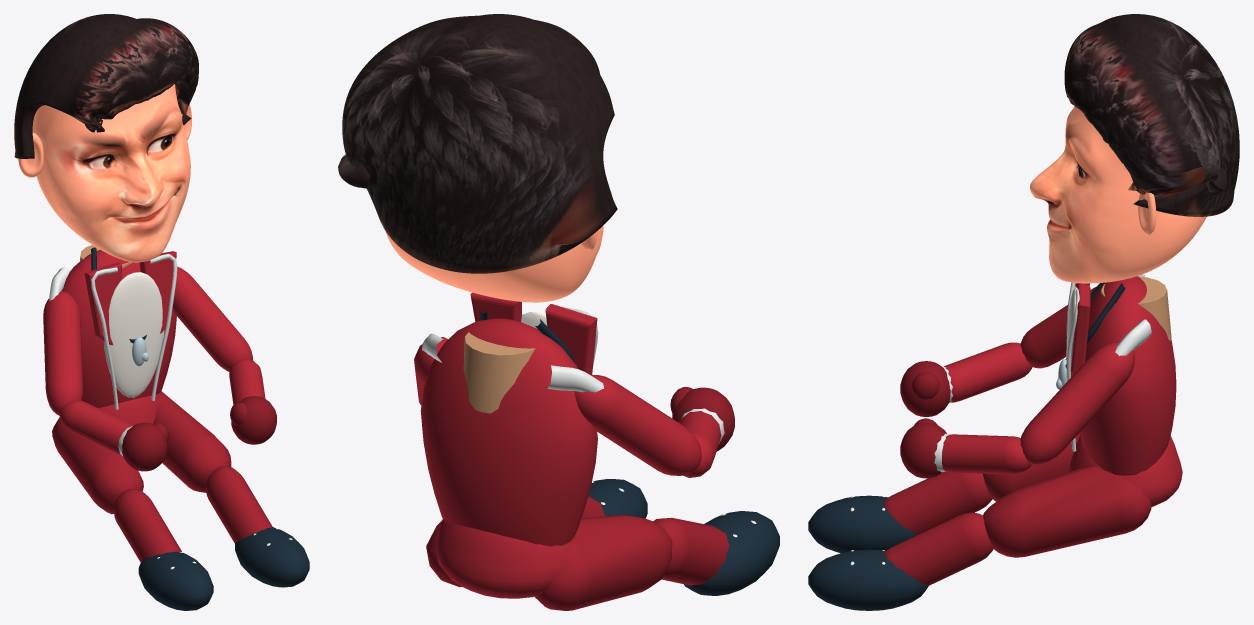
Rendered from discipline.glb.
3 views of the same model, side by side, from view 1: azimuth 30°, elevation 25°; view 2: azimuth 150°, elevation 25°; view 3: azimuth 270°, elevation 25° (orthographic). The views are drawn at different scales.
Visible parts, largest first — view 1: Driver_discipline, PortraitVolumeFace, PortraitHair_discipline, UpperArm_L, UpperArm_R, Forearm_L, Hand_L, Hand_R, Forearm_R, PortraitEar_-1; view 2: Driver_discipline, PortraitHair_discipline, UpperArm_L, PortraitVolumeFace, Hand_L, Forearm_L, UpperArm_R; view 3: Driver_discipline, PortraitHair_discipline, PortraitVolumeFace, UpperArm_R, Forearm_R, Forearm_L, Hand_L, UpperArm_L, Hand_R, PortraitEar_1.
Part boxes in pixels (<box>): Driver_discipline: <box>49,245,309,610</box>; PortraitVolumeFace: <box>32,84,190,262</box>; PortraitHair_discipline: <box>14,14,198,158</box>; UpperArm_L: <box>43,291,83,415</box>; UpperArm_R: <box>172,266,252,371</box>; Forearm_L: <box>59,400,133,455</box>; Hand_L: <box>122,422,169,471</box>; Hand_R: <box>230,396,276,444</box>; Forearm_R: <box>229,358,265,404</box>; PortraitEar_-1: <box>18,132,43,177</box>; Driver_discipline: <box>420,292,779,610</box>; PortraitHair_discipline: <box>338,14,617,273</box>; UpperArm_L: <box>574,375,701,475</box>; PortraitVolumeFace: <box>385,226,603,302</box>; Hand_L: <box>670,387,734,451</box>; Forearm_L: <box>679,408,724,477</box>; UpperArm_R: <box>414,337,448,405</box>; Driver_discipline: <box>808,274,1182,610</box>; PortraitHair_discipline: <box>1064,14,1239,216</box>; PortraitVolumeFace: <box>1030,107,1206,283</box>; UpperArm_R: <box>1020,341,1134,464</box>; Forearm_R: <box>934,433,1031,474</box>; Forearm_L: <box>942,342,1032,402</box>; Hand_L: <box>900,361,950,416</box>; UpperArm_L: <box>1020,286,1096,368</box>; Hand_R: <box>900,418,946,478</box>; PortraitEar_1: <box>1138,192,1156,235</box>.
Size of the model in its own units: 1.21 by 2.8 by 1.96.
11 materials, 2 textured.
